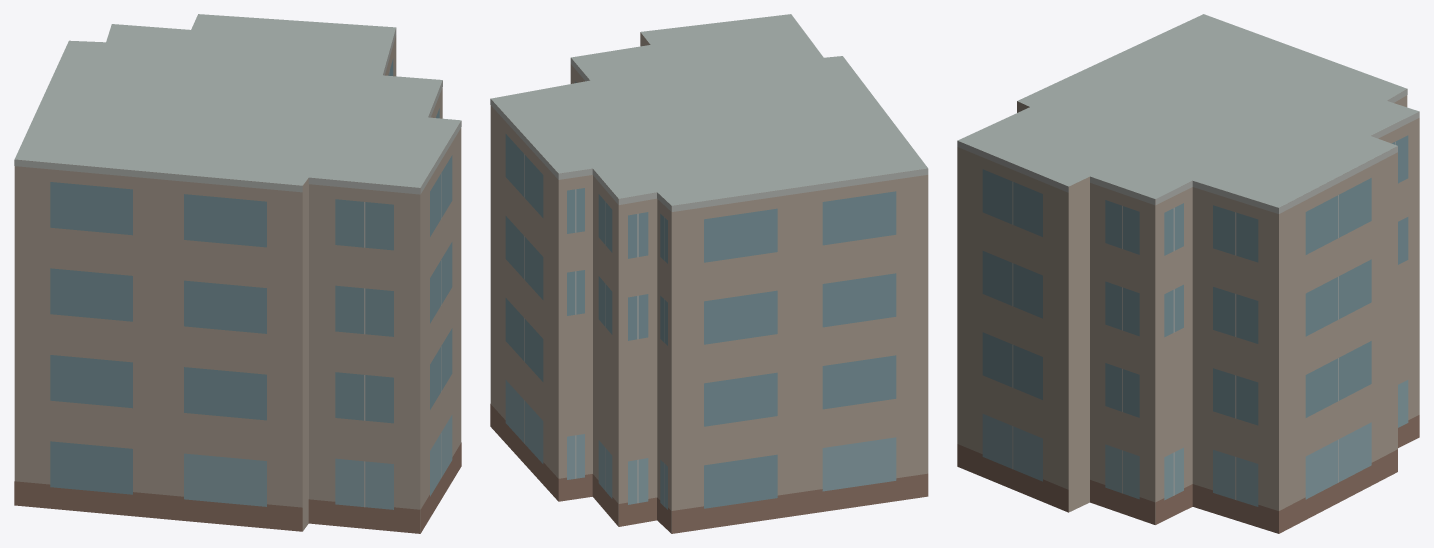
Rendered from survey-upis-32925436.glb.
3 views of the same model, side by side, from view 1: azimuth 30°, elevation 25°; view 2: azimuth 150°, elevation 25°; view 3: azimuth 270°, elevation 25° (orthographic). The views are drawn at different scales.
Parts seen in each view (by area): view 1: survey-upis-32925436.tmp; view 2: survey-upis-32925436.tmp; view 3: survey-upis-32925436.tmp.
Part boxes in pixels (left/top/right/bottom): survey-upis-32925436.tmp: left=14, top=14, right=461, bottom=533; survey-upis-32925436.tmp: left=490, top=14, right=928, bottom=533; survey-upis-32925436.tmp: left=957, top=14, right=1419, bottom=533.
Size of the model in its own units: 16.21 by 12.7 by 16.33.
